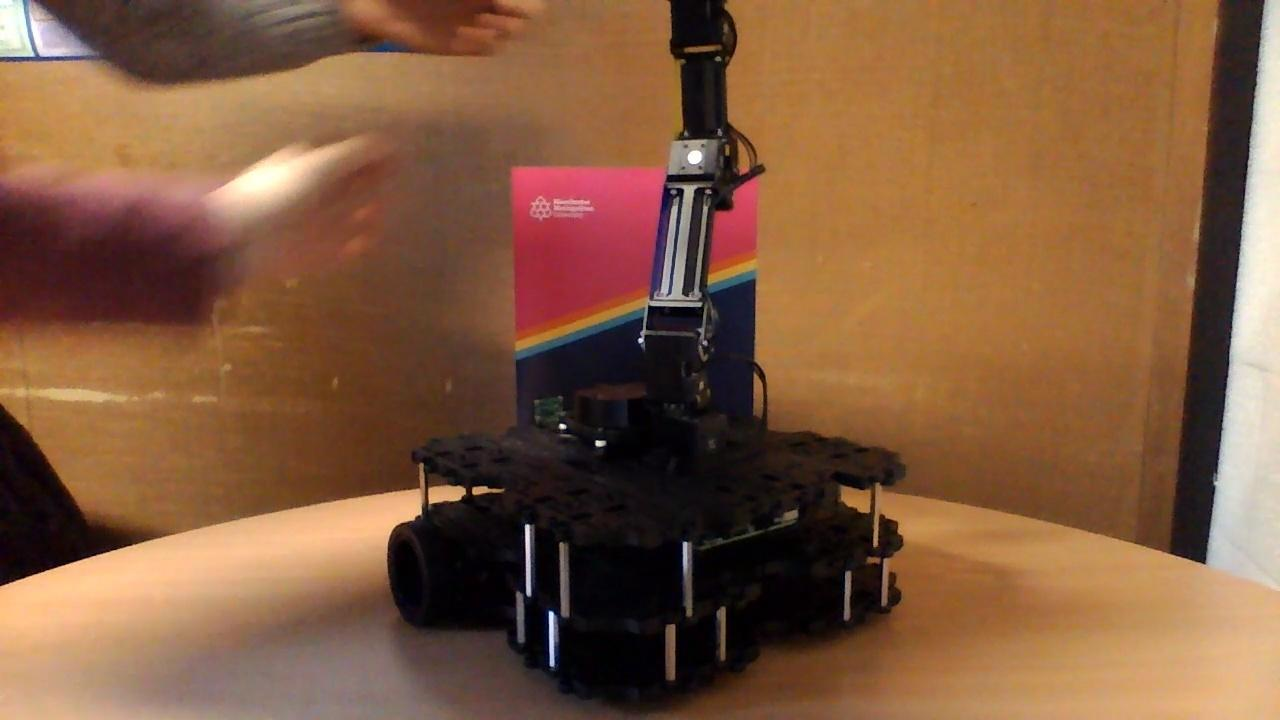Arm: (632, 132, 744, 374)
Wrist: (649, 0, 756, 184)
base: (381, 379, 910, 709)
